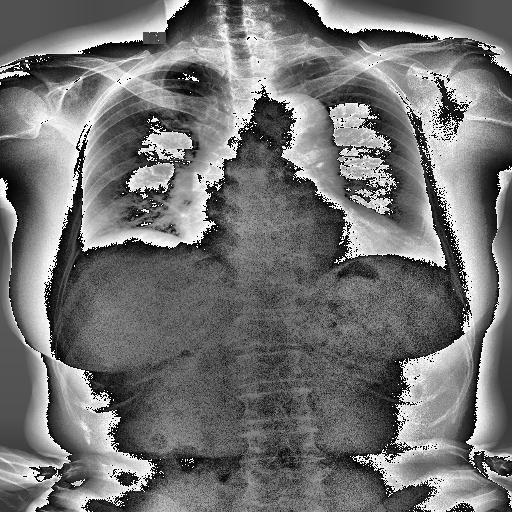0- Aortic enlargement: (264, 92, 336, 162), (264, 96, 336, 156), (262, 94, 335, 146)
3- Cardiomegaly: (177, 213, 415, 267), (180, 200, 422, 253), (174, 212, 416, 260)
